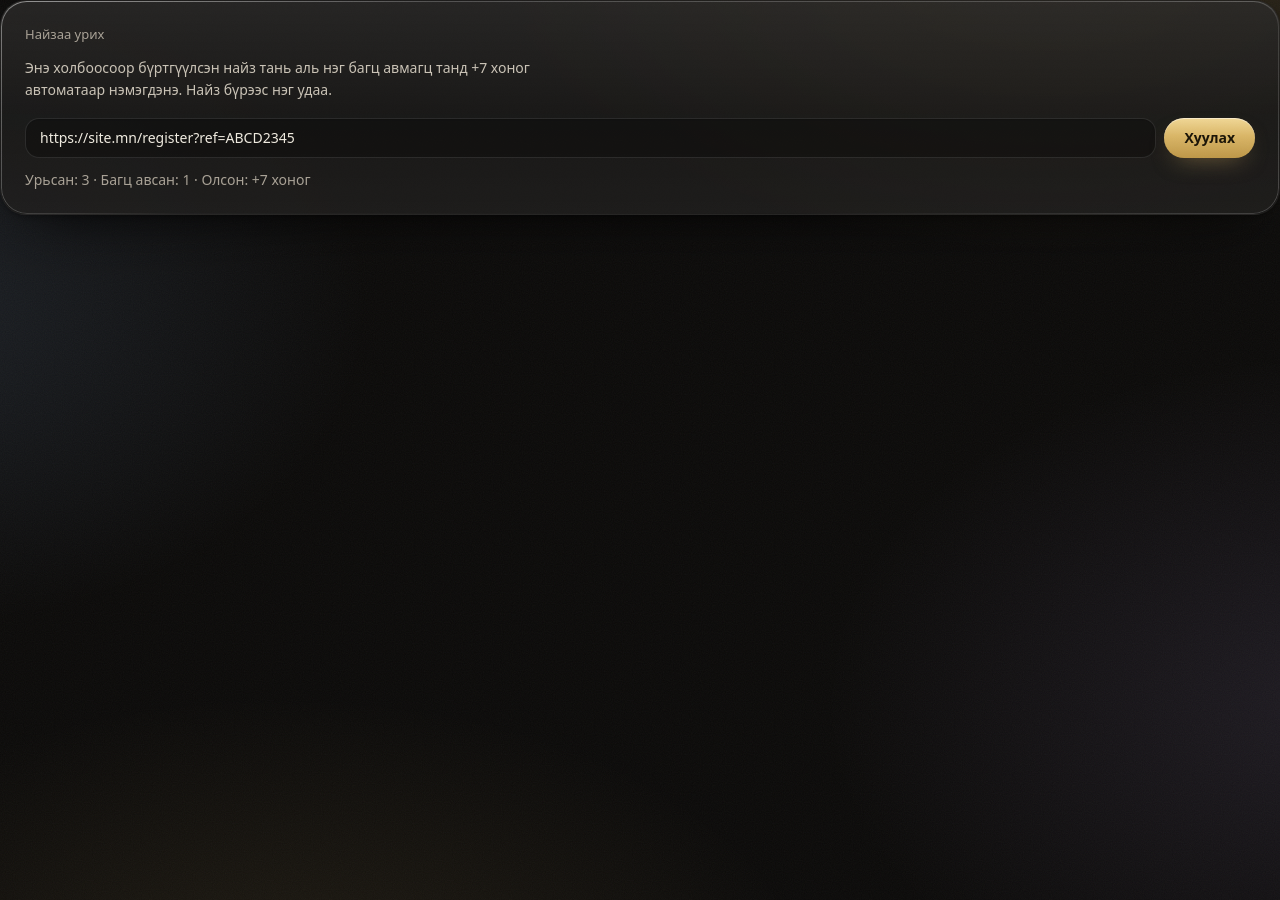
Scenario: shows the link, copies it, and says what it has earned
The width and height of the screenshot is (1280, 900).
Check: the field named "Урилгын холбоос" holds "https://site.mn/register?ref=ABCD2345", box [25,118,1156,158]
Check: the text "+7 хоног автоматаар нэмэгдэнэ" is shown, box [25,58,530,99]
Step 1. Click the button "Хуулах" → [1210, 138], box [1164,118,1255,158]
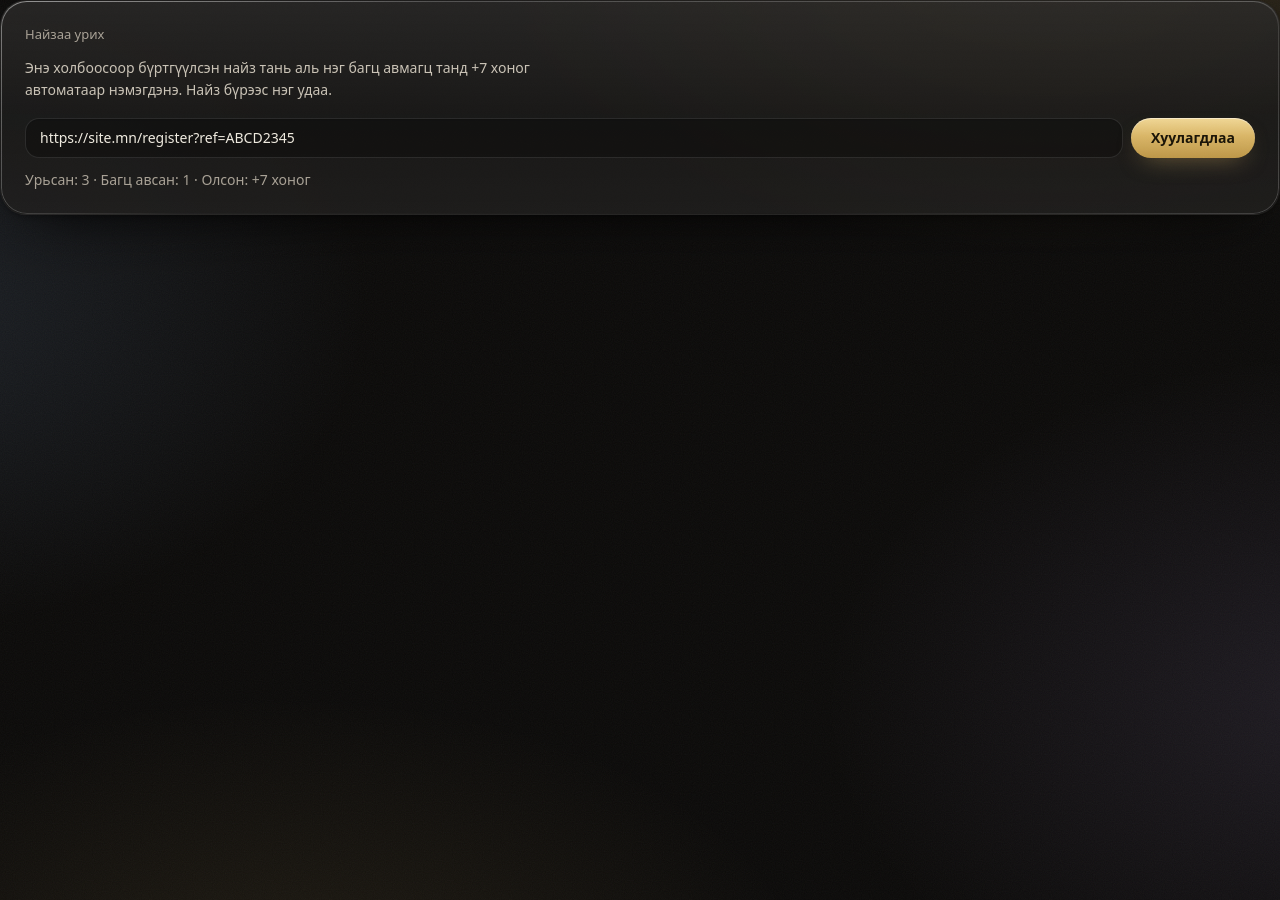
Check: the button "Хуулагдлаа" is shown, box [1131,118,1255,158]
